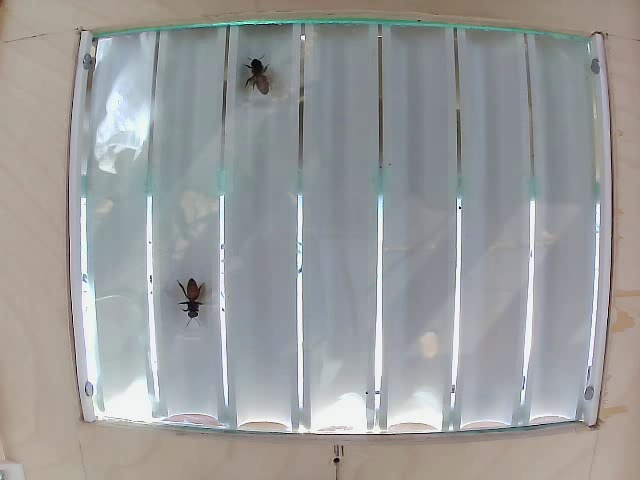bee: (172, 269, 204, 322), (244, 53, 274, 101)
